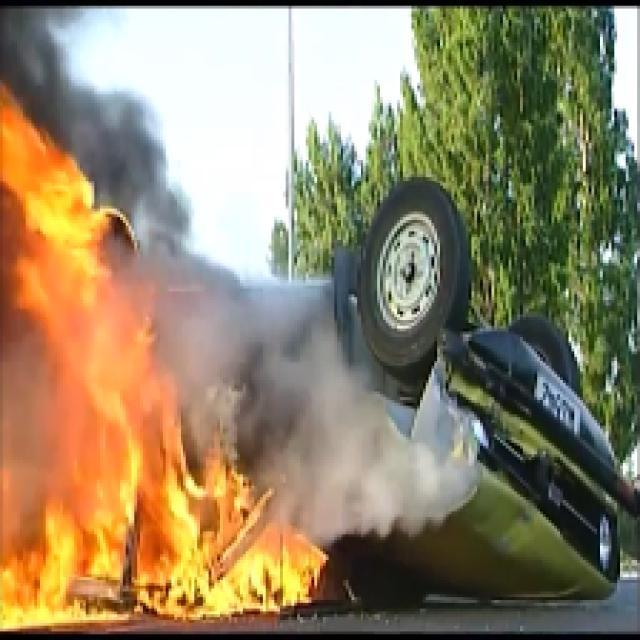Fire: (2, 92, 328, 638)
Smoke: (208, 280, 472, 540), (2, 2, 138, 138)
